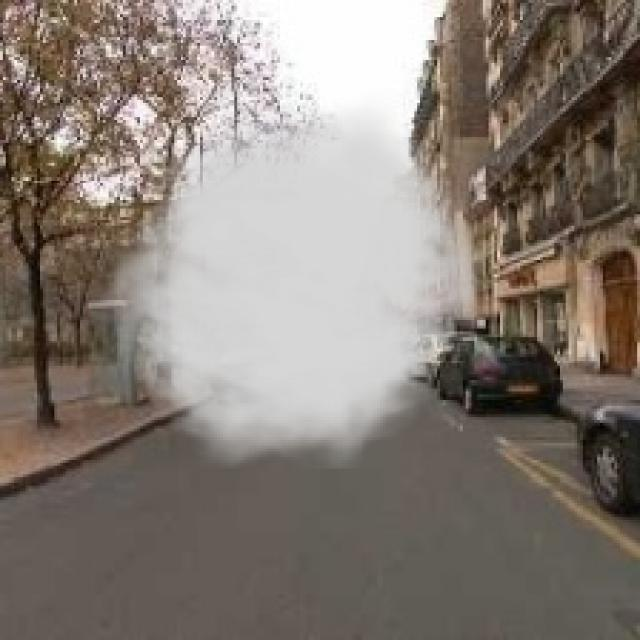Smoke: (91, 89, 500, 468)
